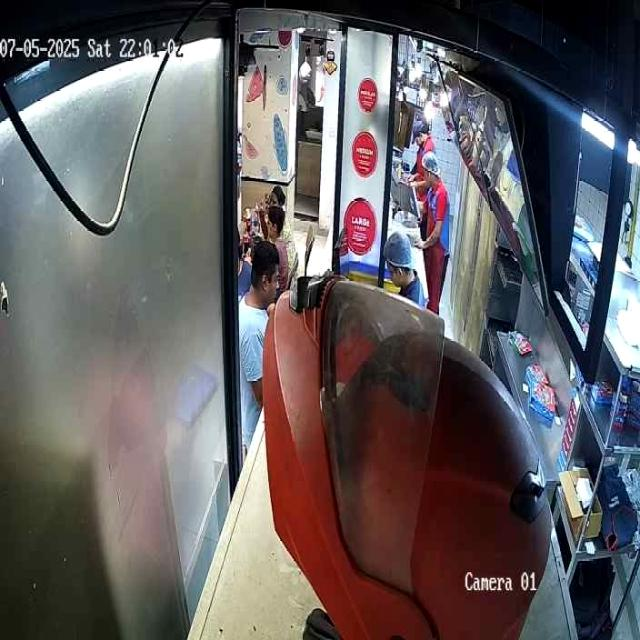helmet: (258, 275, 556, 639)
